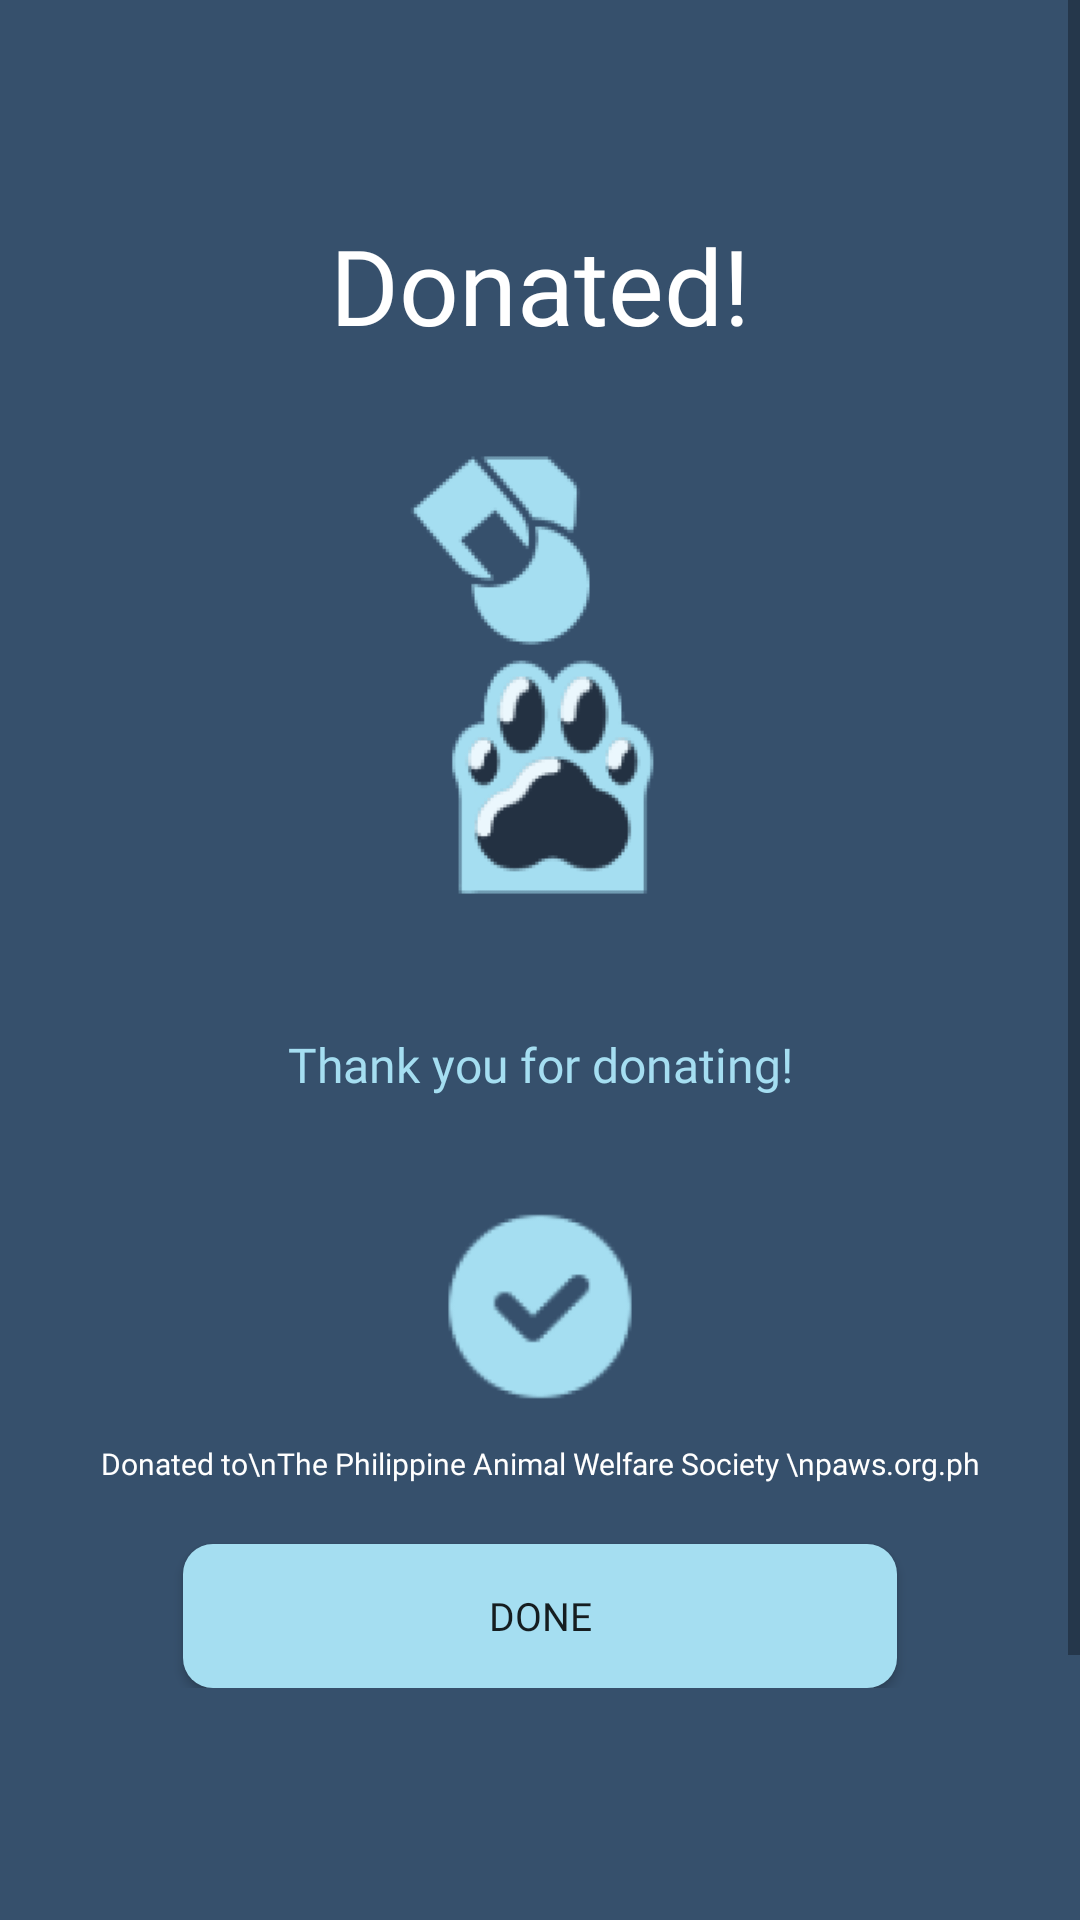

Icon click points for this 1080×1920 phone screenshot, format [x,y]:
check: [540,1306]
